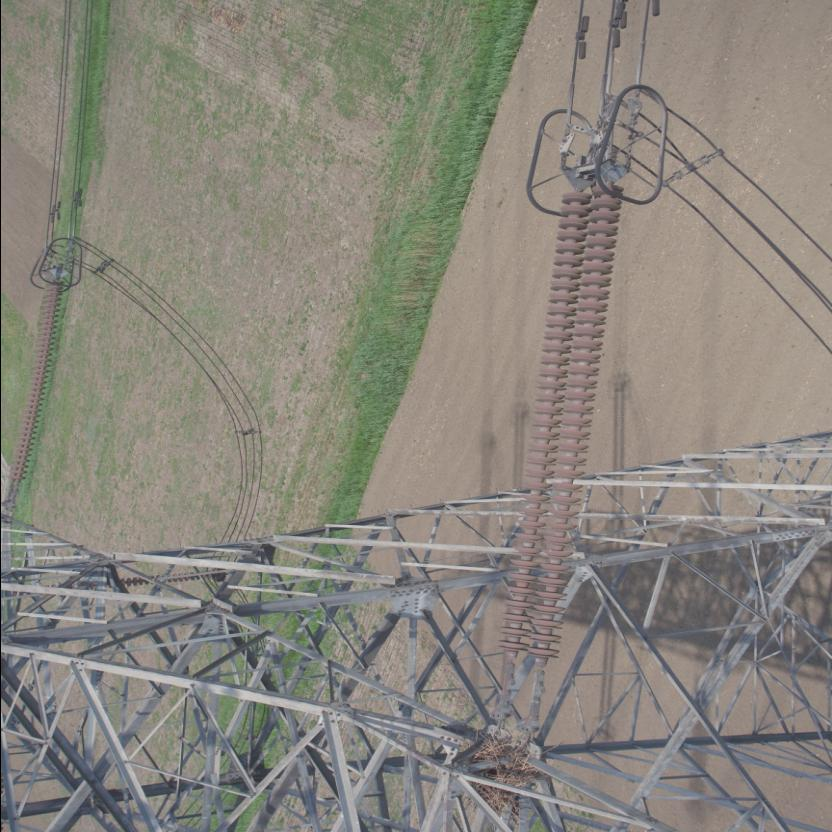insulator: (491, 178, 623, 690), (3, 283, 64, 485)
